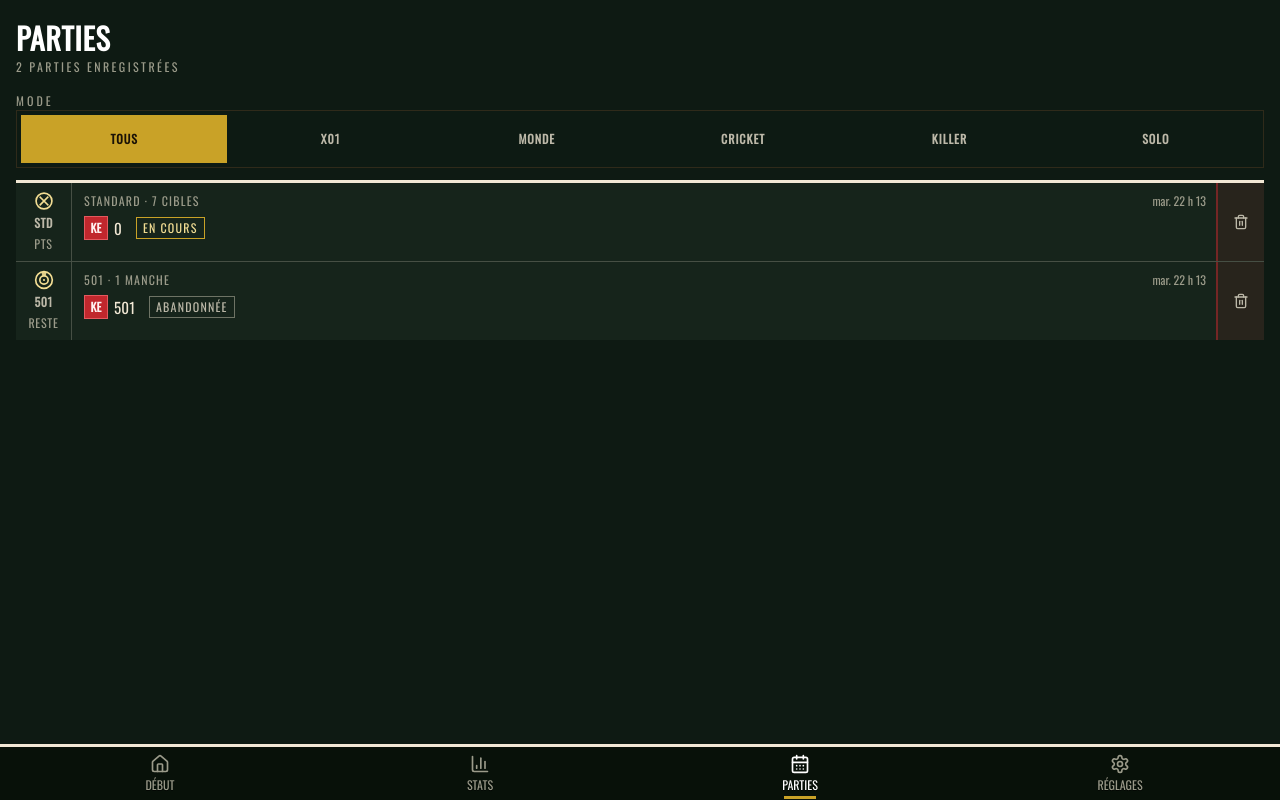
Test: Historique — filtre de mode › distingue « aucune partie de ce mode » d’un historique vide
The width and height of the screenshot is (1280, 800).
Expected: the text "2 parties enregistrées" is shown, x1=16 y1=58 x2=180 y2=76
Click the button "Monde": (537, 139) x1=434 y1=115 x2=640 y2=163
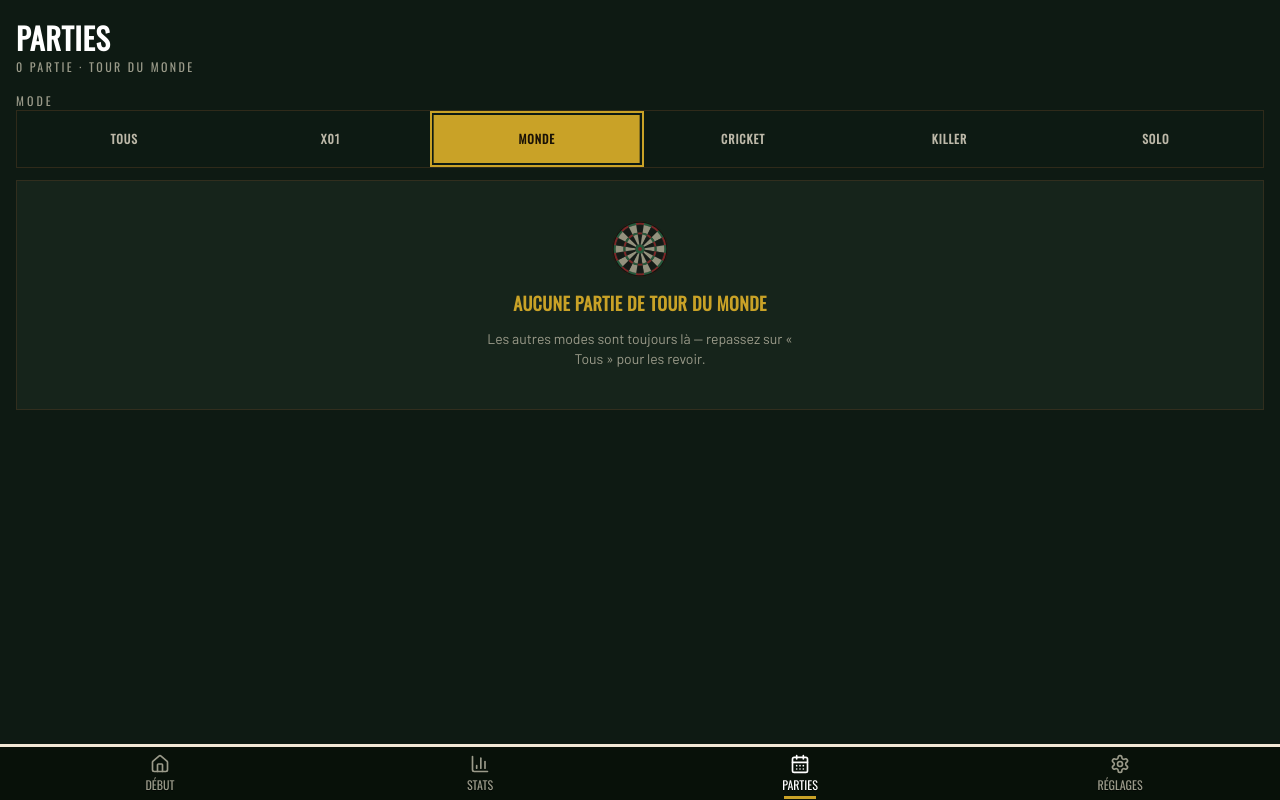
Now the text "Aucune partie de Tour du monde" is shown, box x1=513 y1=289 x2=767 y2=317
